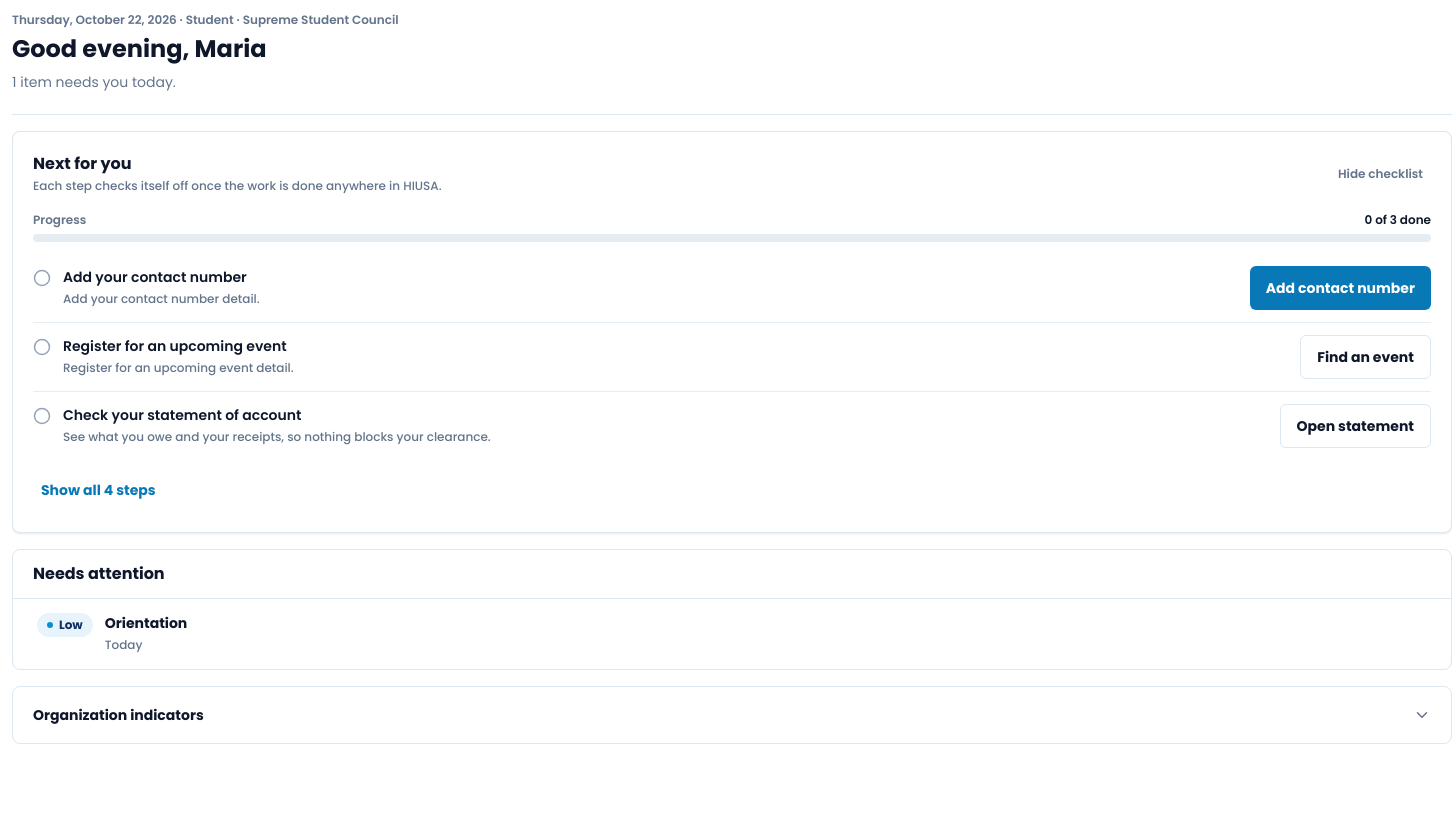
Test: RoleBriefing › first screen per role › STUDENT: Next for you lists contact, event, statement of account, and no Tasks pillar or task items
This screenshot has width=1452, height=822.
Click the button "Show all 4 steps": point(98, 490) [33,468,164,512]
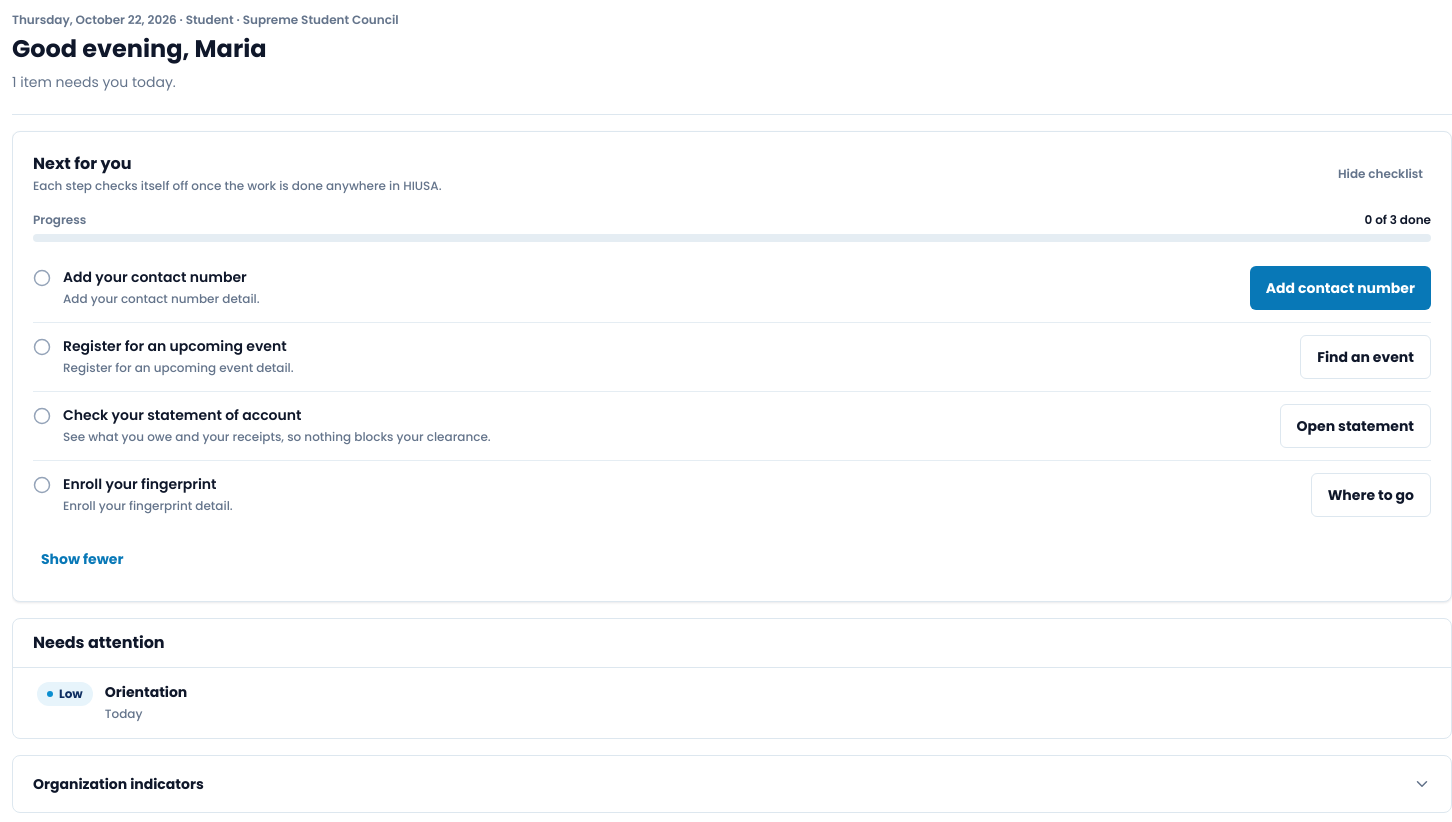
Check: the text "Orientation" is shown, box [105,682,187,702]
Check: the button "Where to go" is shown, box [1311,473,1431,517]
